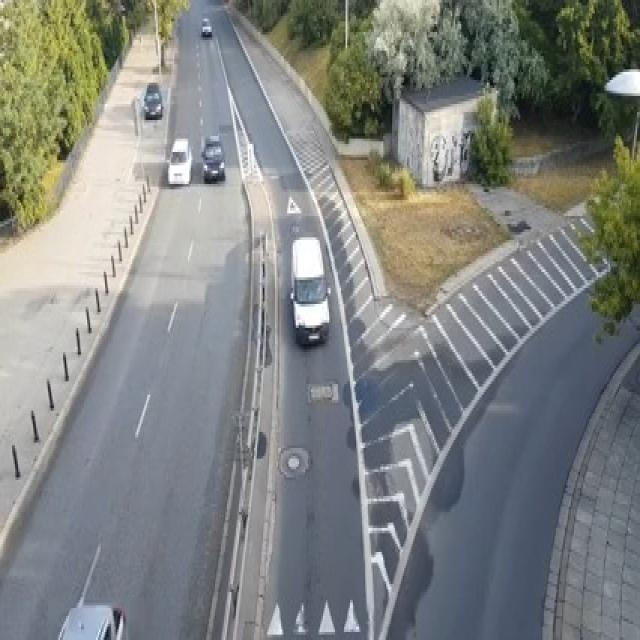car: (288, 235, 330, 346), (56, 603, 124, 637), (200, 134, 225, 182), (167, 136, 192, 184), (143, 83, 162, 117), (200, 16, 212, 35)
